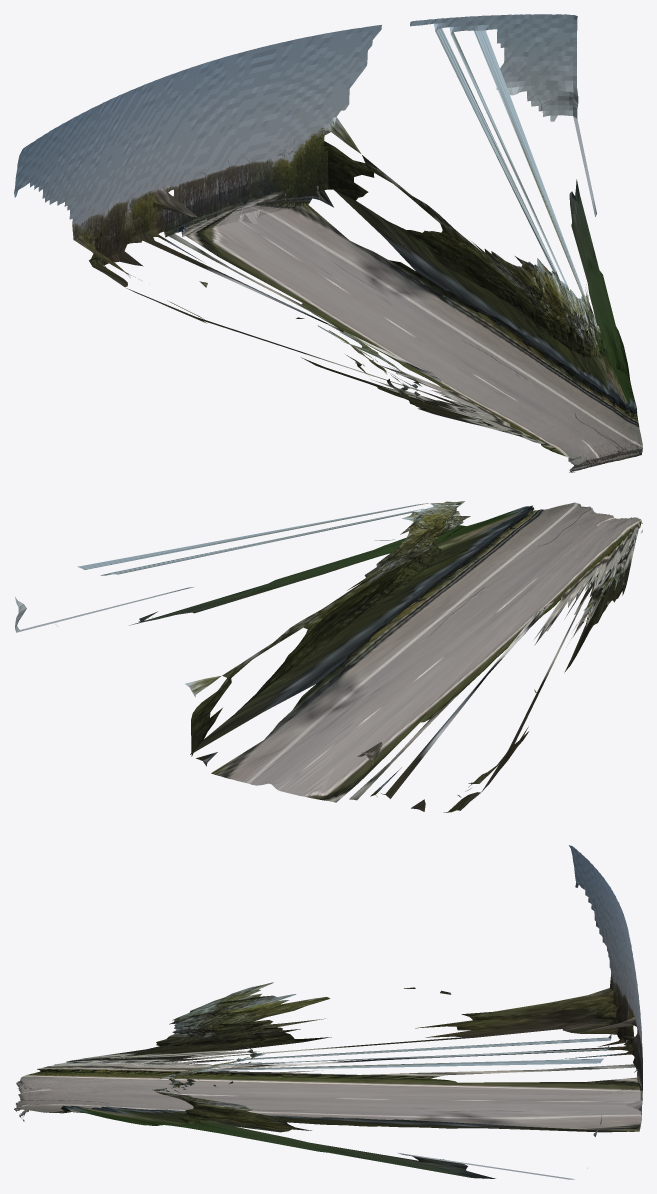
3 renders of one model, top to bottom at view 1: azimuth 30°, elevation 25°; view 2: azimuth 150°, elevation 25°; view 3: azimuth 270°, elevation 25°, orthographic. The views are drawn at different scales.
Visible parts, largest first — view 1: defaultobject; view 2: defaultobject; view 3: defaultobject.
Boxes of the visible parts, <box> form: defaultobject: <box>14,14,642,472</box>; defaultobject: <box>15,501,642,812</box>; defaultobject: <box>14,845,642,1179</box>.
Size of the model in its own units: 40.91 by 12.38 by 44.42.
Materials: 1 (1 with a texture image).
